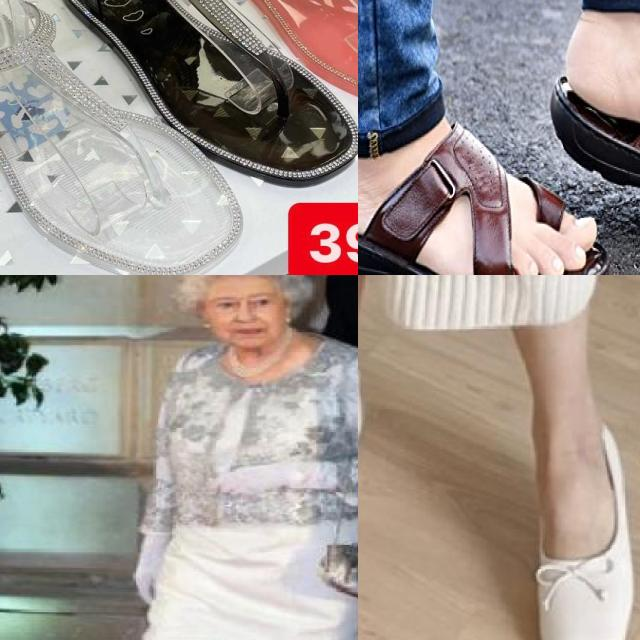Sandals: (0, 0, 265, 275), (29, 0, 358, 192), (470, 375, 640, 640), (358, 105, 610, 275), (157, 0, 358, 128), (551, 1, 640, 243)
face_nomask: (213, 285, 284, 340)
hand_glove: (208, 463, 304, 497), (132, 542, 173, 608)
head_nohelmet: (188, 275, 310, 292)
person: (127, 275, 358, 640)
